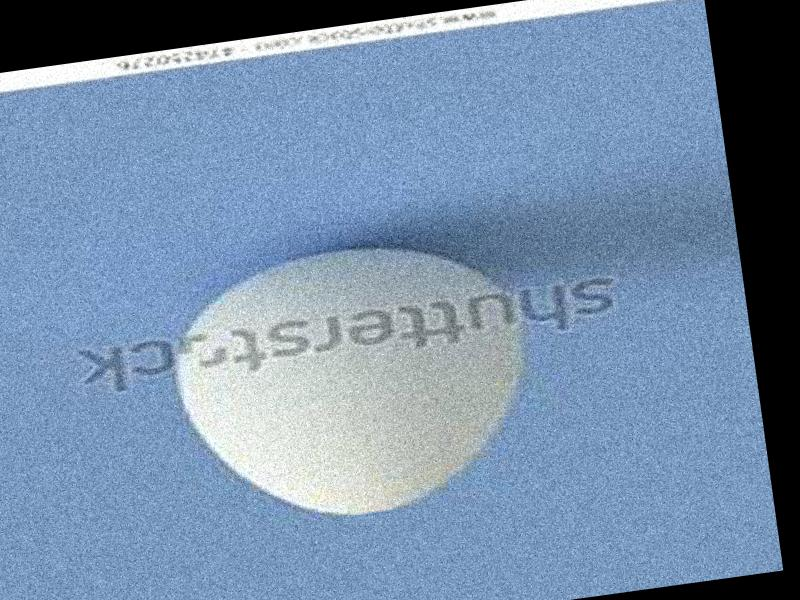Eggs: (161, 224, 544, 535)
